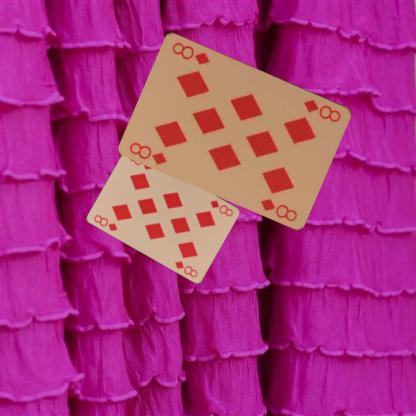8d: (127, 139, 169, 166), (302, 96, 342, 124), (208, 198, 235, 218), (92, 212, 119, 232)
